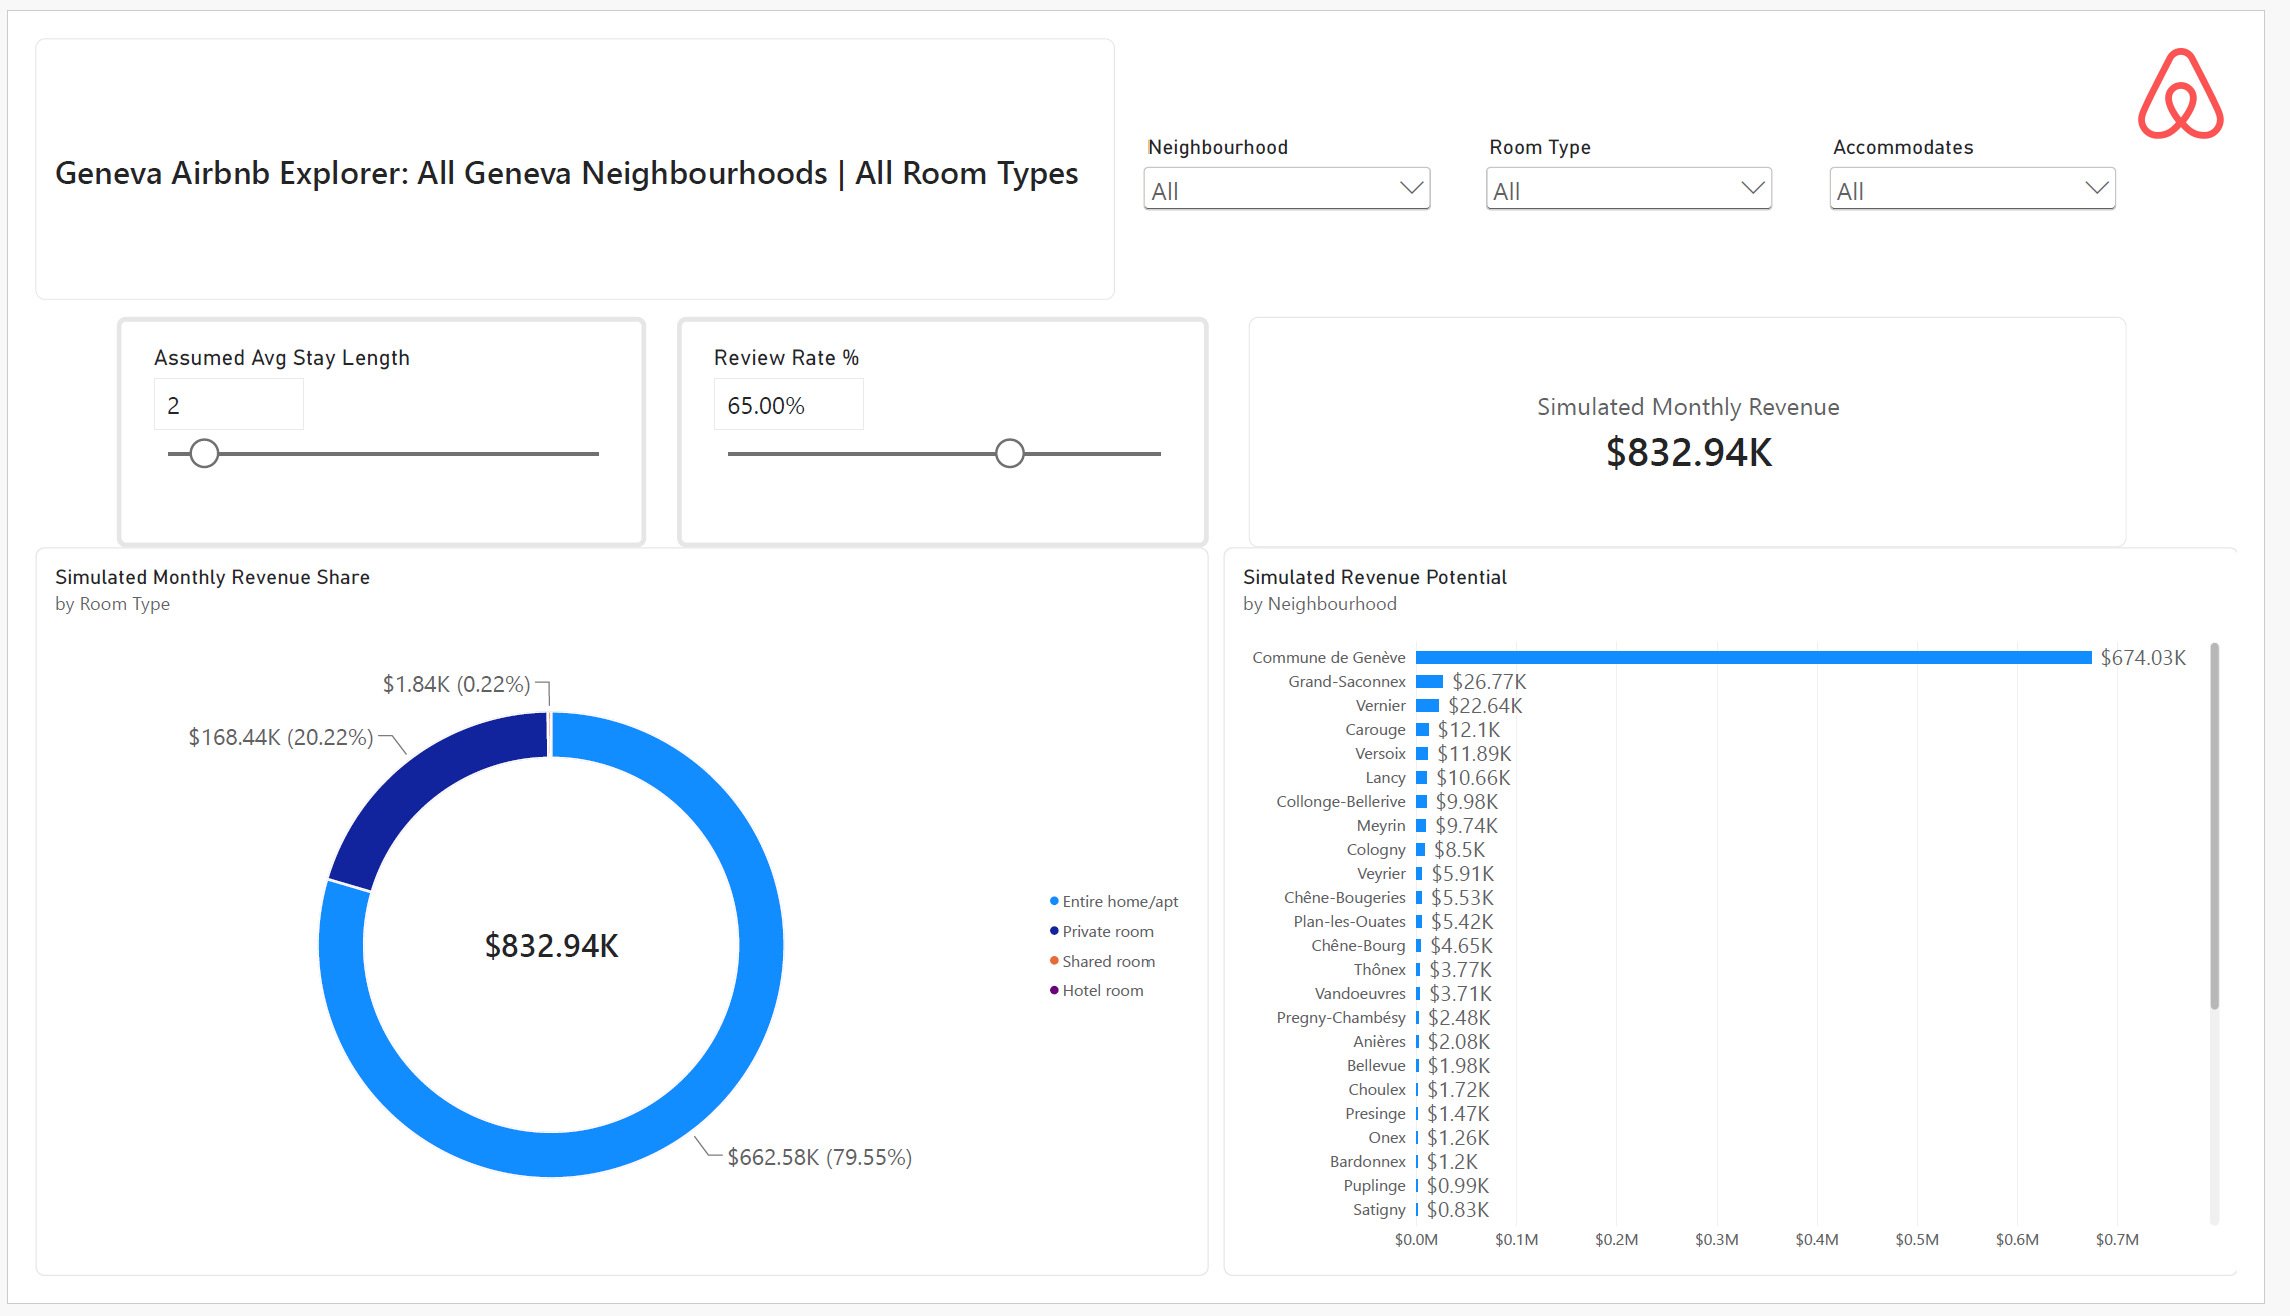

What the dashboard file says about the page in this screenshot:
{"tool":"powerbi","page":{"name":"Revenue Simulator","canvas":[1920,1080],"ordinal":4},"visuals":[{"type":"image","box":[1824,0,95,95],"z":0},{"type":"cardVisual","fields":{"Data":["_Measures.Dynamic Report Title"]},"box":[0,0,942,228],"z":1000},{"type":"slicer","fields":{"Values":["Assumed Avg Stay Length.Assumed Avg Stay Length"]},"box":[70.8,242.9,462.6,200.8],"z":2000},{"type":"cardVisual","fields":{"Data":["_Measures.Estimated Monthly Revenue"]},"box":[1057.5,242.9,766.9,200.8],"z":3000},{"type":"slicer","fields":{"Values":["Review Rate %.Review Rate %"]},"box":[560.3,242.9,462.6,200.8],"z":4000},{"type":"donutChart","fields":{"Category":["DimRoomType.Room Type"],"Y":["_Measures.Estimated Monthly Revenue"]},"box":[0,443.7,1023.1,636.8],"z":5000},{"type":"clusteredBarChart","fields":{"Category":["DimNeighbourhood.Neighbourhood Cleansed"],"Y":["_Measures.Estimated Monthly Revenue"]},"box":[1036.5,443.7,885.4,636.8],"z":6000},{"type":"slicer","fields":{"Values":["DimNeighbourhood.Neighbourhood Cleansed"]},"box":[942,64,299.6,114],"z":7000},{"type":"slicer","fields":{"Values":["DimRoomType.Room Type"]},"box":[1240.4,64,299.6,114],"z":8000},{"type":"slicer","fields":{"Values":["FactListings.Accommodates"]},"box":[1540.4,64,299.6,114],"z":9000}]}

Visuals, with their boxes in screenshot pixels (x1, y1, x2, y2), scaled from the page's 1920x1080 canvas onto the 2290x1316 screenshot:
image: (2176, 0, 2289, 116)
cardVisual - _Measures.Dynamic Report Title: (0, 0, 1124, 278)
slicer - Assumed Avg Stay Length.Assumed Avg Stay Length: (84, 296, 636, 541)
cardVisual - _Measures.Estimated Monthly Revenue: (1261, 296, 2176, 541)
slicer - Review Rate %.Review Rate %: (668, 296, 1220, 541)
donutChart - DimRoomType.Room Type x _Measures.Estimated Monthly Revenue: (0, 541, 1220, 1315)
clusteredBarChart - DimNeighbourhood.Neighbourhood Cleansed x _Measures.Estimated Monthly Revenue: (1236, 541, 2289, 1315)
slicer - DimNeighbourhood.Neighbourhood Cleansed: (1124, 78, 1481, 217)
slicer - DimRoomType.Room Type: (1479, 78, 1837, 217)
slicer - FactListings.Accommodates: (1837, 78, 2195, 217)
